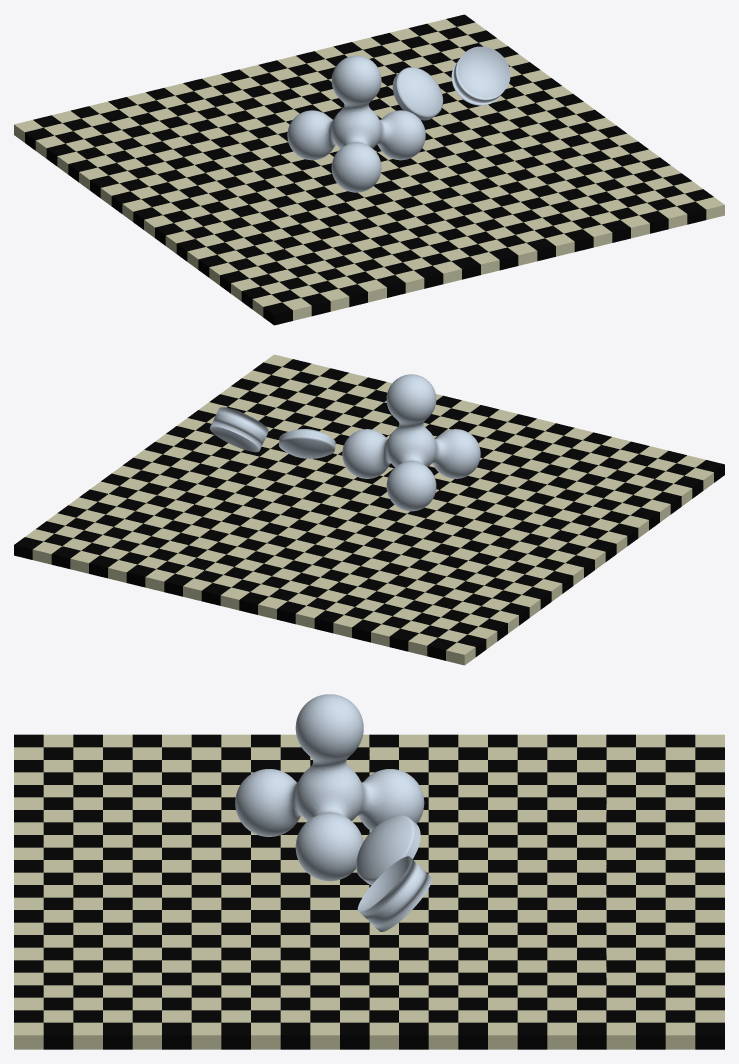
Rendered from refractions.obj.
The picture shows the model from 3 angles, top to bottom: view 1: azimuth 30°, elevation 25°; view 2: azimuth 150°, elevation 25°; view 3: azimuth 270°, elevation 25°; orthographic projection. The views are drawn at different scales.
Visible parts, largest first — view 1: white-tiles_wtiles, black-tiles_btiles, metaball_mball, concave-lens_cclens, convex-lens_cxlens; view 2: black-tiles_btiles, white-tiles_wtiles, metaball_mball, concave-lens_cclens, convex-lens_cxlens; view 3: black-tiles_btiles, white-tiles_wtiles, metaball_mball, concave-lens_cclens, convex-lens_cxlens.
Part boxes in pixels (x1,y1,x2,y2): white-tiles_wtiles: (14, 19, 724, 320); black-tiles_btiles: (25, 14, 713, 325); metaball_mball: (287, 55, 425, 192); concave-lens_cclens: (451, 46, 510, 105); convex-lens_cxlens: (392, 67, 443, 120); black-tiles_btiles: (14, 359, 724, 660); white-tiles_wtiles: (25, 354, 713, 665); metaball_mball: (342, 374, 480, 511); concave-lens_cclens: (209, 407, 268, 452); convex-lens_cxlens: (279, 429, 335, 458); black-tiles_btiles: (14, 734, 724, 1049); white-tiles_wtiles: (14, 734, 724, 1049); metaball_mball: (235, 694, 424, 881); concave-lens_cclens: (357, 856, 431, 931); convex-lens_cxlens: (356, 815, 420, 884).
Bounding box in the file's own units: 24 × 6.85 × 24.
